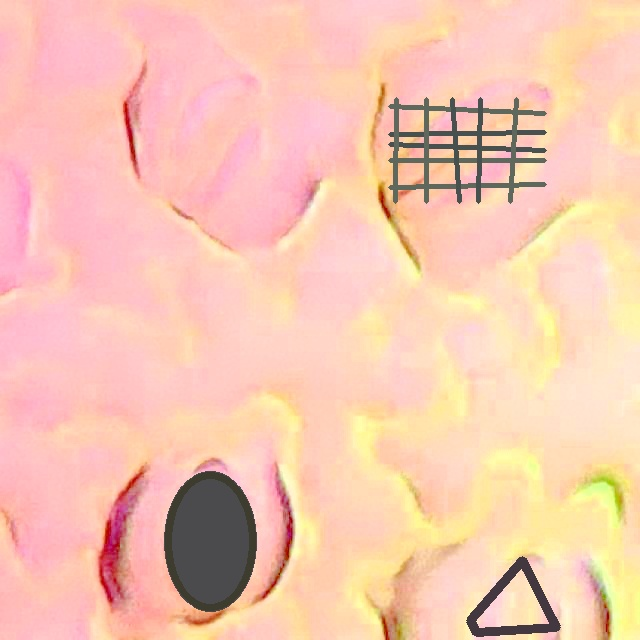close: (388, 97, 546, 203), (467, 556, 560, 636)
open: (164, 471, 255, 611)
